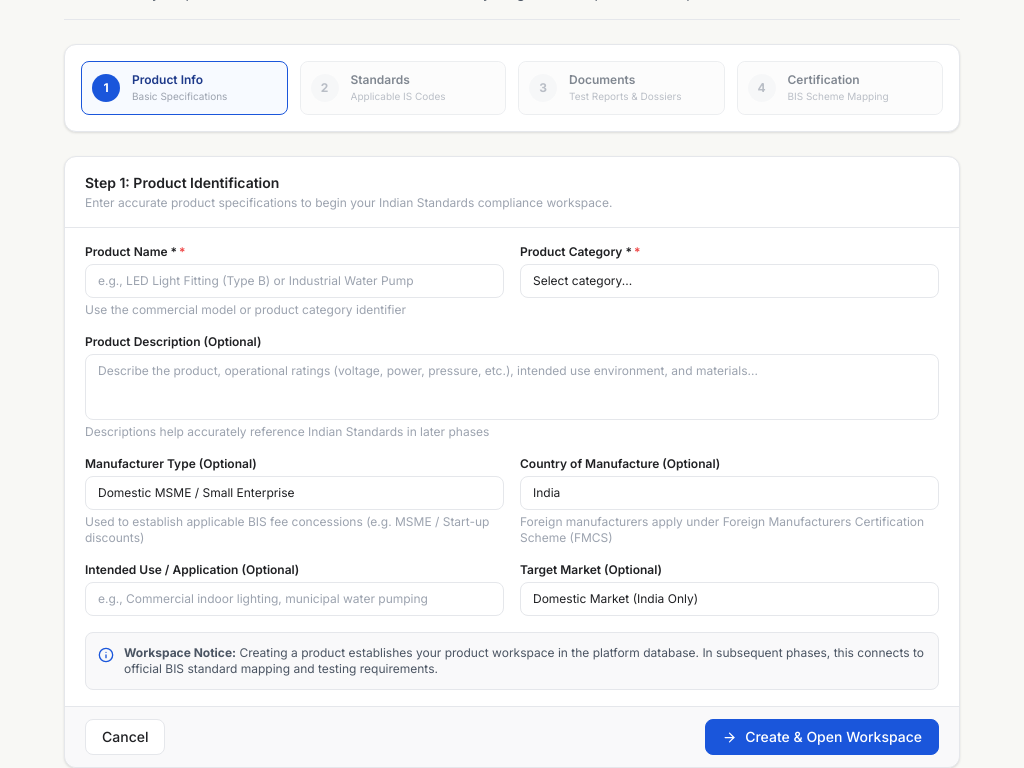
it: Phase 3 — Frontend Product Workflow › renders CreateProductPage and validates required fields
The width and height of the screenshot is (1024, 768).
(page scrolled)
Expected: the field labelled "Product Name **" is shown, [85, 264, 504, 298]
Expected: the dropdown labelled "Product Category **" is shown, [520, 264, 939, 298]
What coordinates should you click on to do the following:
click the button "Create & Open Workspace"
I would click on:
 (822, 737)
Its box is [705, 719, 939, 755].
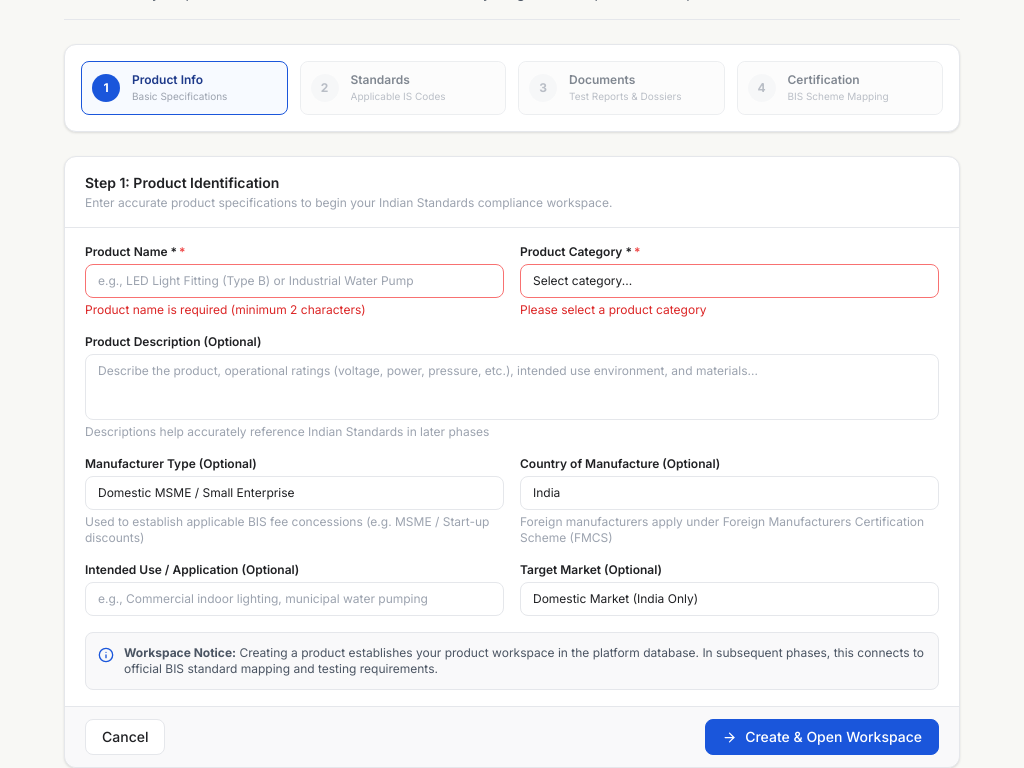
Now the text "Product name is required (minimum 2 characters)" is shown, box [85, 302, 366, 317]
